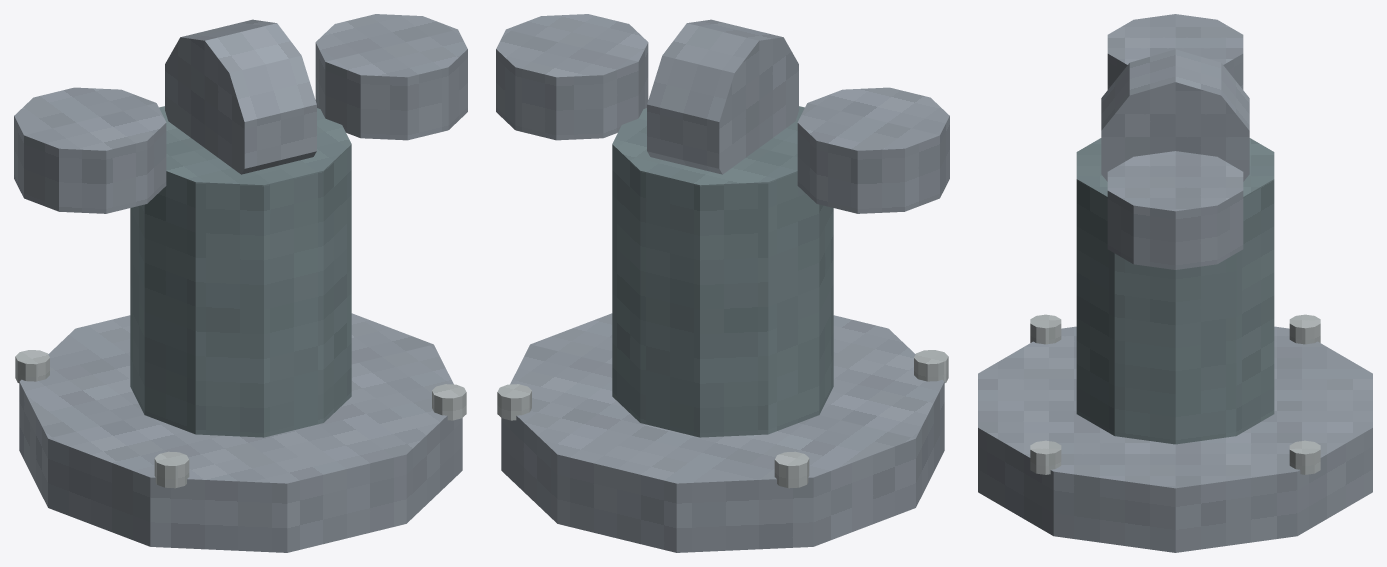
The model's file is level_blockout_refined_wharf_mooring_bollard.glb.
The picture shows the model from 3 angles, left to right: view 1: azimuth 30°, elevation 25°; view 2: azimuth 150°, elevation 25°; view 3: azimuth 270°, elevation 25°; orthographic projection. The views are drawn at different scales.
Parts seen in each view (by area): view 1: level_blockout_refined_wharf_mooring_bollard; view 2: level_blockout_refined_wharf_mooring_bollard; view 3: level_blockout_refined_wharf_mooring_bollard.
Boxes of the visible parts, x1,y1,x2,y2 form: level_blockout_refined_wharf_mooring_bollard: [14, 14, 467, 552]; level_blockout_refined_wharf_mooring_bollard: [496, 14, 949, 552]; level_blockout_refined_wharf_mooring_bollard: [978, 14, 1372, 552].
Bounding box in the file's own units: 0.72 × 0.68 × 0.6087.
Materials: 3 (3 with a texture image).
